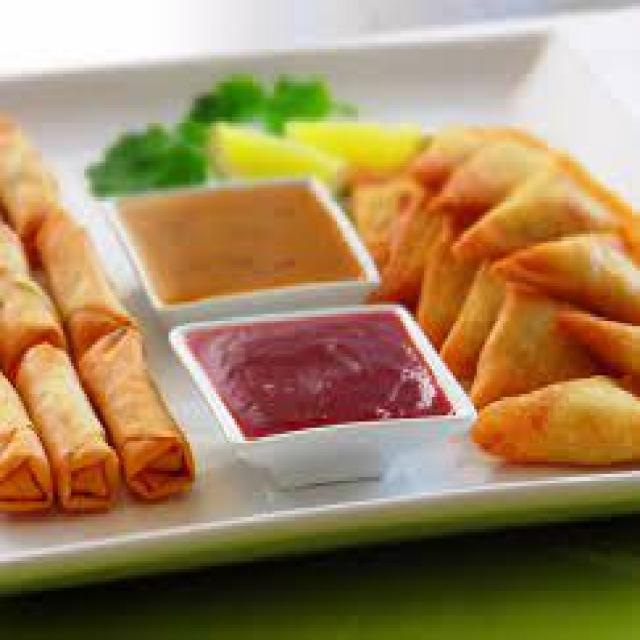Samosa: (361, 120, 637, 483)
Spring Rolls: (0, 89, 200, 534)
